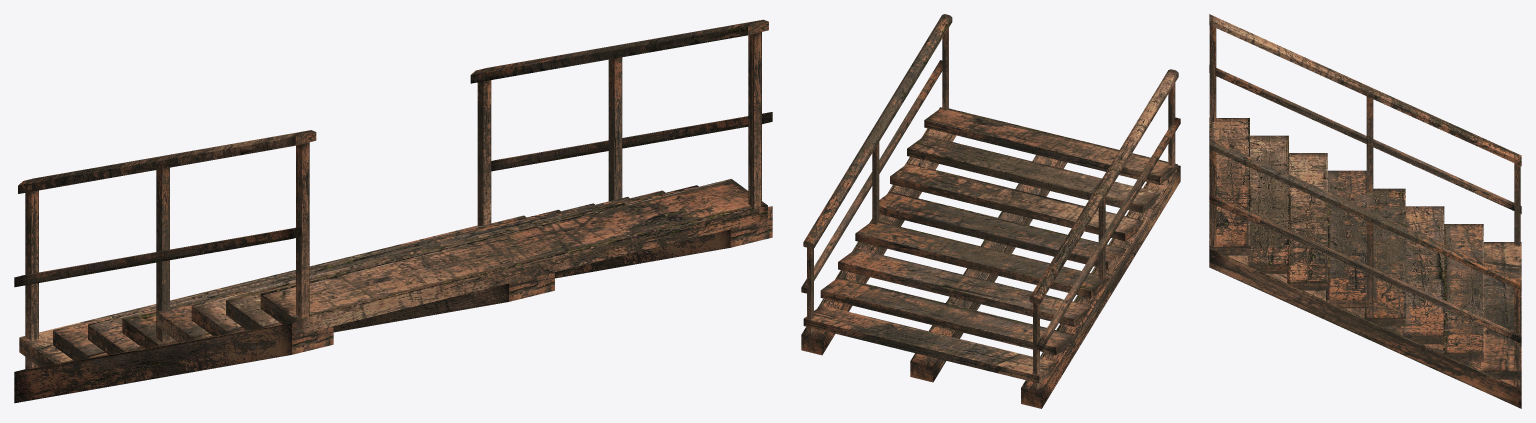
The model's file is factory_stairs_01.DAE.
3 views of the same model, side by side, from view 1: azimuth 30°, elevation 25°; view 2: azimuth 150°, elevation 25°; view 3: azimuth 270°, elevation 25° (orthographic). The views are drawn at different scales.
Parts seen in each view (by area): view 1: Box076; view 2: Box076; view 3: Box076.
Part boxes in pixels (left/top/right/bottom): Box076: left=14, top=19, right=772, bottom=403; Box076: left=801, top=14, right=1180, bottom=408; Box076: left=1209, top=14, right=1521, bottom=408.
Bounding box in the file's own units: 4 × 3.75 × 4.
